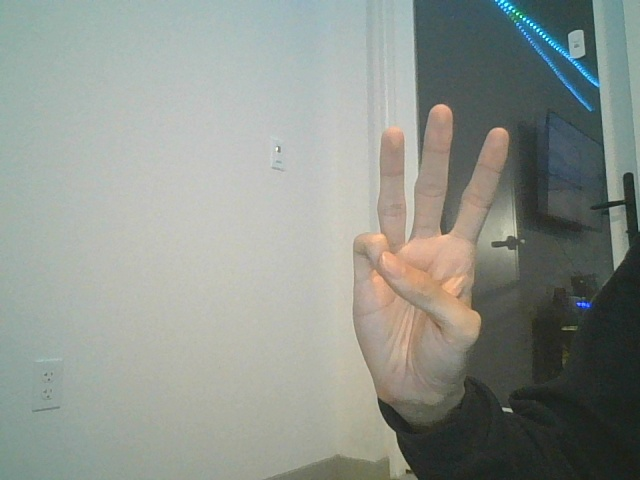w: (352, 101, 510, 420)
